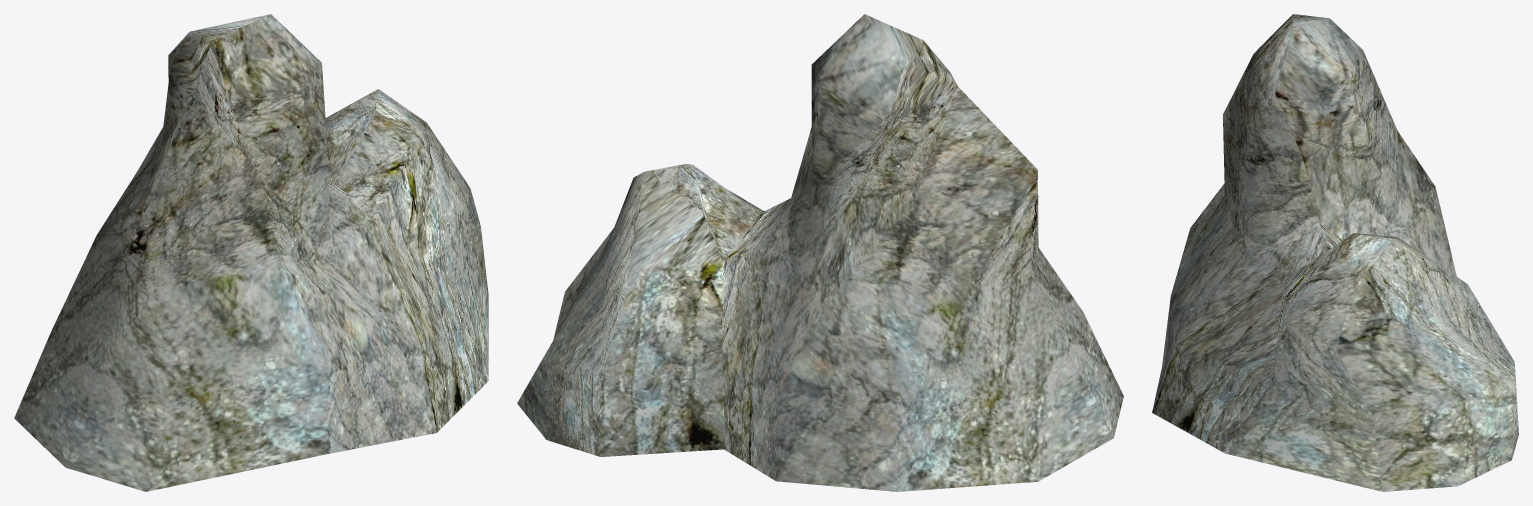
The model's file is general_obj_bigstone08.fbx.
3 views of the same model, side by side, from view 1: azimuth 30°, elevation 25°; view 2: azimuth 150°, elevation 25°; view 3: azimuth 270°, elevation 25° (orthographic). The views are drawn at different scales.
Parts seen in each view (by area): view 1: Sphere01; view 2: Sphere01; view 3: Sphere01.
Boxes of the visible parts, left/top/right/bottom form: Sphere01: left=14, top=14, right=488, bottom=491; Sphere01: left=517, top=14, right=1123, bottom=491; Sphere01: left=1152, top=14, right=1518, bottom=491.
Size of the model in its own units: 23.18 by 17.16 by 16.53.
